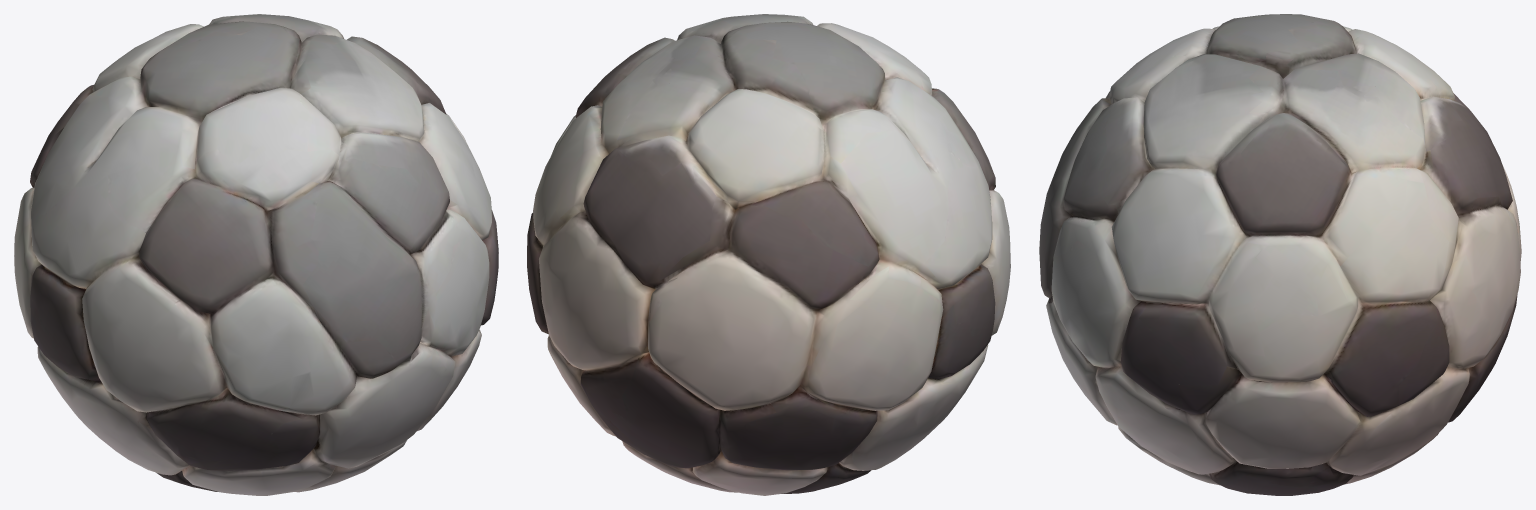
Rendered from soccer_ball.glb.
The picture shows the model from 3 angles, left to right: view 1: azimuth 30°, elevation 25°; view 2: azimuth 150°, elevation 25°; view 3: azimuth 270°, elevation 25°; orthographic projection.
Parts seen in each view (by area): view 1: tripo_node_2822d947-34d3-4bca-9096-504b9e1ff098; view 2: tripo_node_2822d947-34d3-4bca-9096-504b9e1ff098; view 3: tripo_node_2822d947-34d3-4bca-9096-504b9e1ff098.
Boxes of the visible parts, x1,y1,x2,y2 form: tripo_node_2822d947-34d3-4bca-9096-504b9e1ff098: (14,14,498,495); tripo_node_2822d947-34d3-4bca-9096-504b9e1ff098: (527,14,1010,495); tripo_node_2822d947-34d3-4bca-9096-504b9e1ff098: (1039,14,1521,495).
Size of the model in its own units: 0.2192 by 0.22 by 0.219.
1 material, 1 textured.
